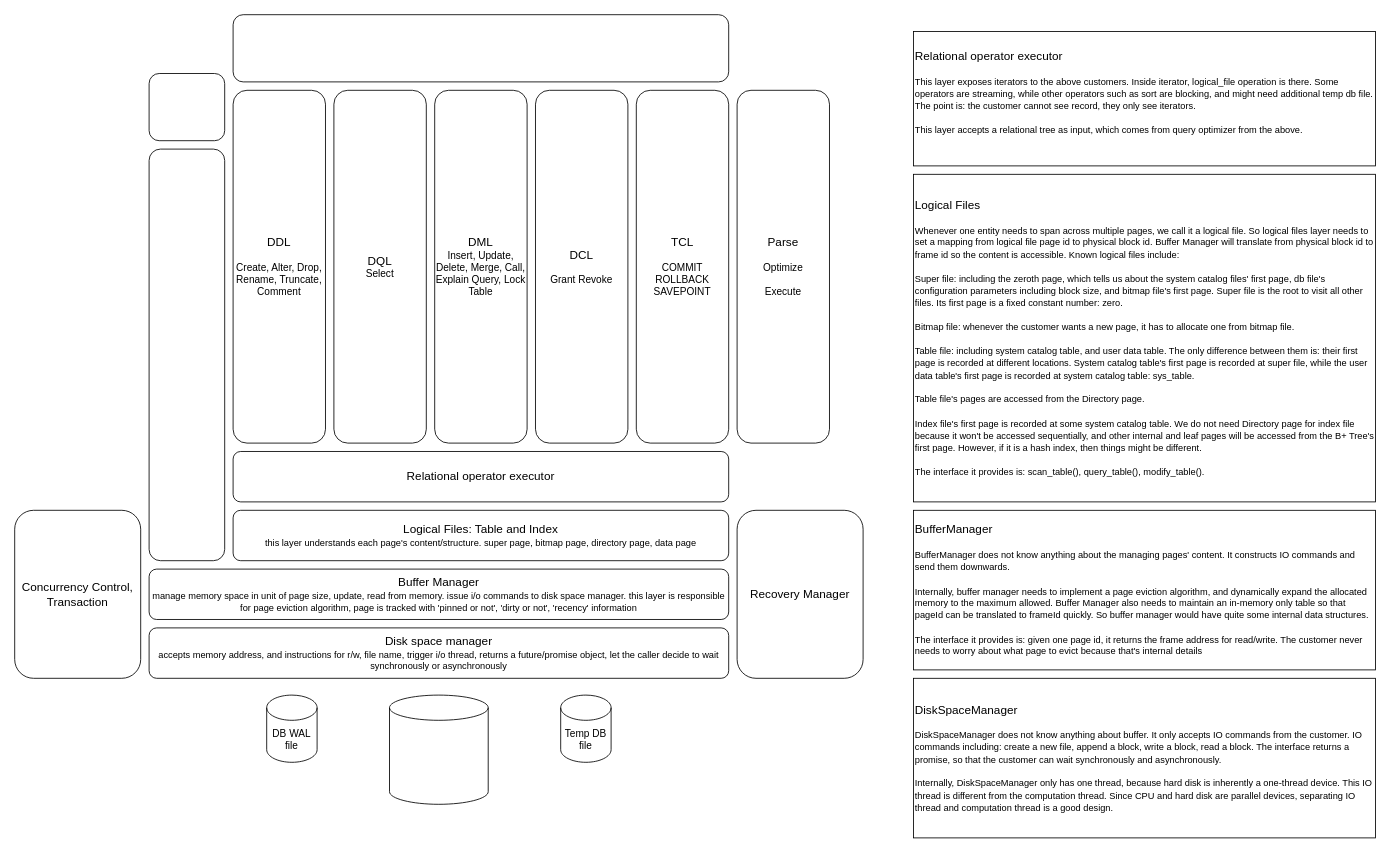
The diagram is 1390 pixels wide and 853 high, and some of its shapes have lost their labels. The shapes that lost their labels are listed below. From the top down, each one's box as (x1, y1, x2, y2) in pixels, then its label:
(232, 14, 729, 82): SQL
(148, 73, 225, 141): Dev
(148, 148, 225, 561): Init DB
(389, 694, 488, 804): DB file System Catalog Data Files Index Files
